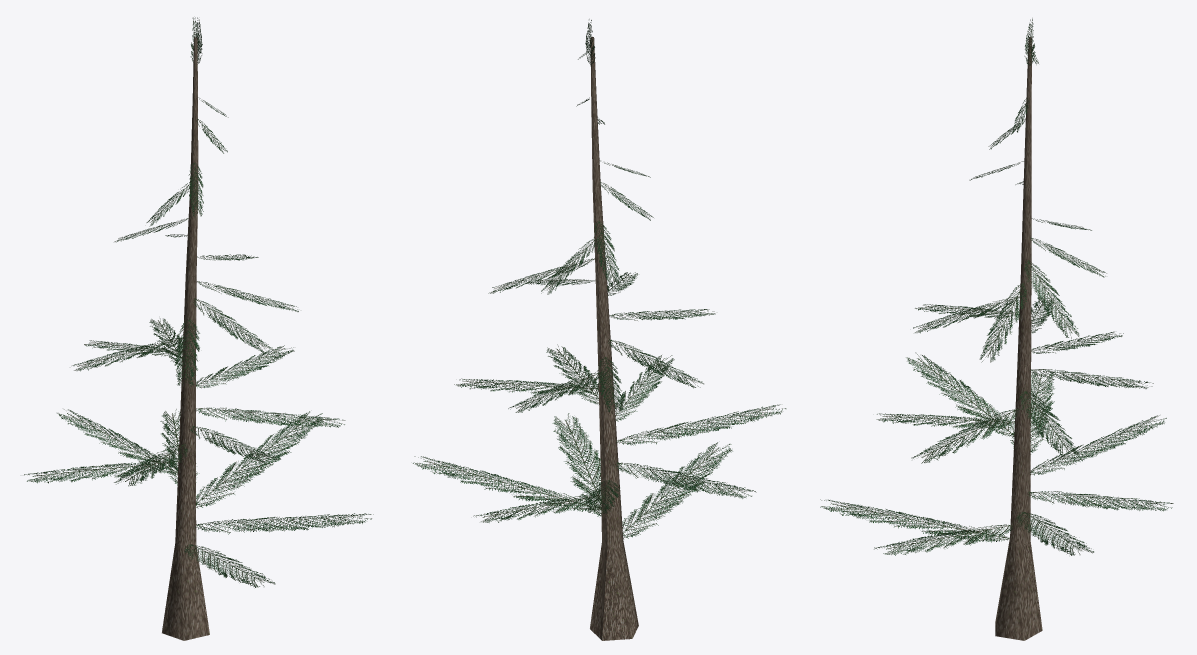
File: pinheiro_vd_a_lo.glb
3 views of the same model, side by side, from view 1: azimuth 30°, elevation 25°; view 2: azimuth 150°, elevation 25°; view 3: azimuth 270°, elevation 25° (orthographic). The views are drawn at different scales.
Parts seen in each view (by area): view 1: pinheiro_vd_a_lo; view 2: pinheiro_vd_a_lo; view 3: pinheiro_vd_a_lo.
Part boxes in pixels (x1,y1,x2,y2): pinheiro_vd_a_lo: (24,17,373,640); pinheiro_vd_a_lo: (413,19,786,640); pinheiro_vd_a_lo: (820,18,1173,640).
Bounding box in the file's own units: 5.61 × 10.01 × 5.32.
Materials: 2 (2 with a texture image).
